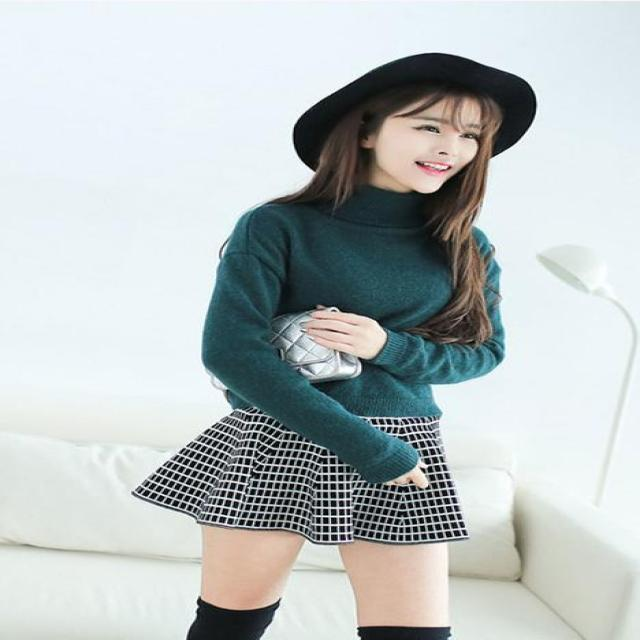long sleeve top: (202, 180, 502, 414)
skirt: (134, 391, 469, 539)
